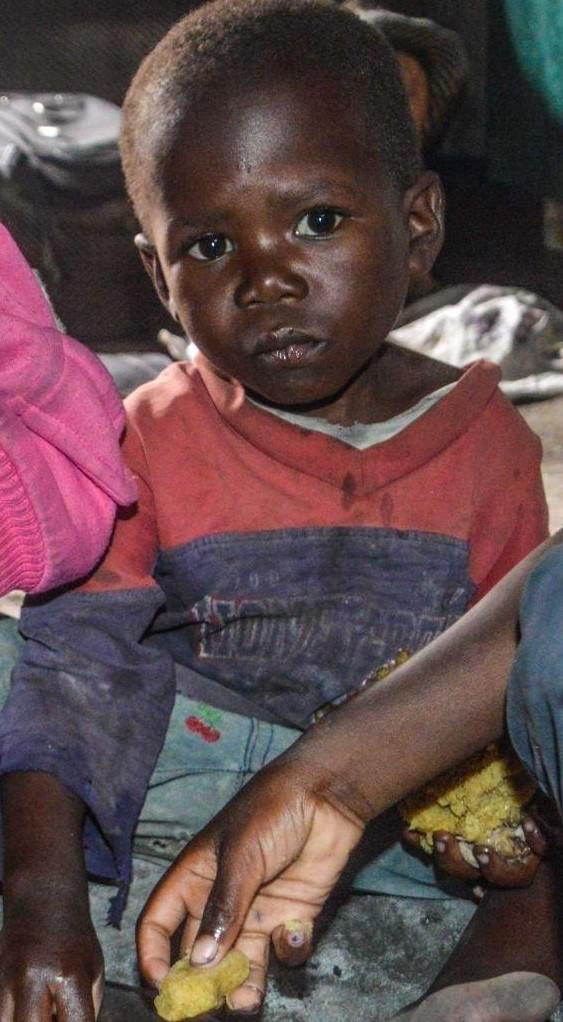Stunting: (90, 30, 498, 435)
